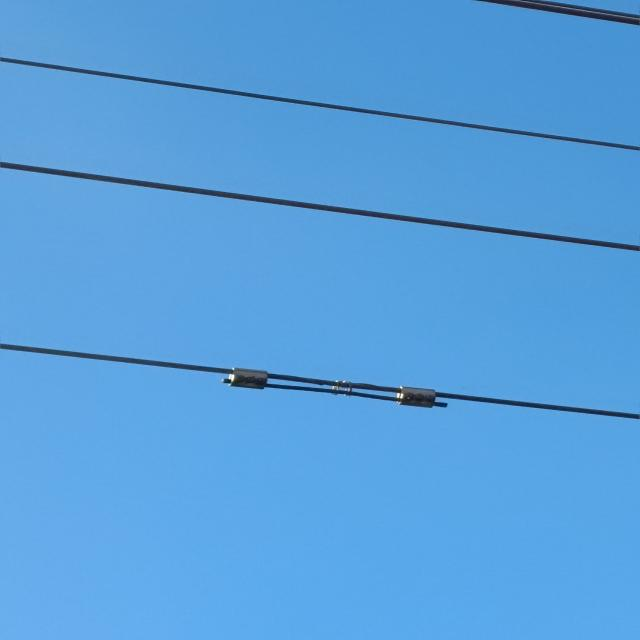wire: (0, 157, 640, 258)
